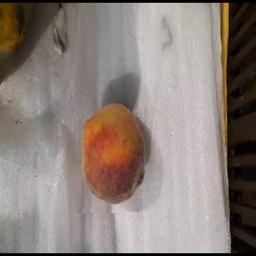Peach Semifresh: (75, 96, 159, 213)
